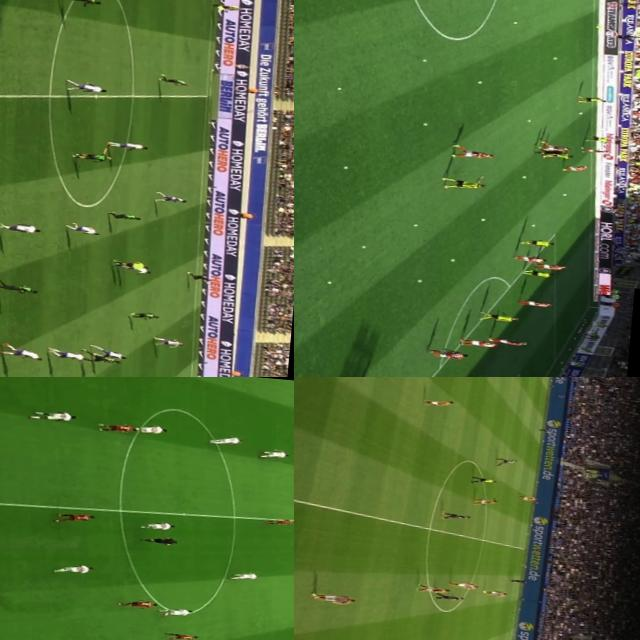ball: (334, 85, 342, 92), (478, 216, 486, 222), (524, 118, 530, 124), (324, 280, 330, 286), (574, 111, 581, 116), (510, 21, 518, 25), (414, 278, 422, 282), (411, 223, 416, 228), (550, 56, 556, 60), (476, 80, 482, 84), (420, 58, 426, 62), (341, 165, 347, 169), (449, 259, 455, 263), (529, 224, 535, 228), (520, 176, 525, 180), (422, 122, 426, 126), (559, 194, 567, 196), (360, 246, 364, 248)
player: (439, 172, 483, 192), (442, 146, 495, 162), (24, 409, 76, 424), (48, 562, 96, 578), (310, 592, 360, 607), (1, 344, 44, 361), (62, 80, 108, 94), (51, 511, 96, 525), (78, 350, 122, 364), (0, 221, 42, 235), (88, 346, 130, 360), (74, 148, 114, 162), (108, 139, 150, 152), (0, 280, 41, 293), (116, 262, 154, 276), (118, 598, 160, 610), (126, 423, 168, 435), (158, 606, 193, 620), (46, 349, 86, 361), (124, 309, 160, 322), (64, 222, 100, 235), (150, 192, 188, 204), (536, 150, 571, 163), (423, 348, 468, 358), (532, 140, 569, 152), (206, 435, 246, 446), (156, 73, 192, 85), (100, 422, 136, 434), (138, 520, 177, 531), (459, 338, 497, 349), (414, 583, 451, 594), (109, 210, 142, 222), (558, 162, 588, 175), (488, 337, 526, 347), (516, 238, 552, 248), (573, 95, 605, 106), (529, 263, 565, 272), (482, 313, 518, 322), (163, 631, 199, 640), (432, 593, 468, 602), (152, 338, 184, 348), (518, 298, 550, 308), (265, 516, 294, 527), (443, 511, 472, 522), (426, 398, 456, 408), (230, 572, 258, 582), (512, 255, 546, 263), (258, 450, 288, 459), (449, 581, 479, 590), (480, 589, 510, 598), (470, 496, 496, 506), (578, 147, 610, 155), (520, 270, 552, 278), (186, 272, 211, 282), (495, 456, 518, 466), (58, 0, 101, 5), (582, 136, 608, 144), (508, 578, 530, 585), (518, 496, 536, 502)
